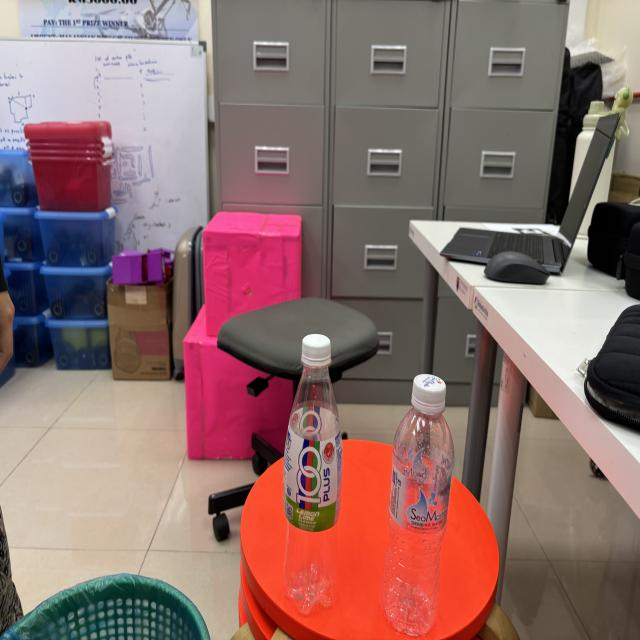plastic_bottle: (383, 364, 462, 640), (278, 330, 351, 622)
